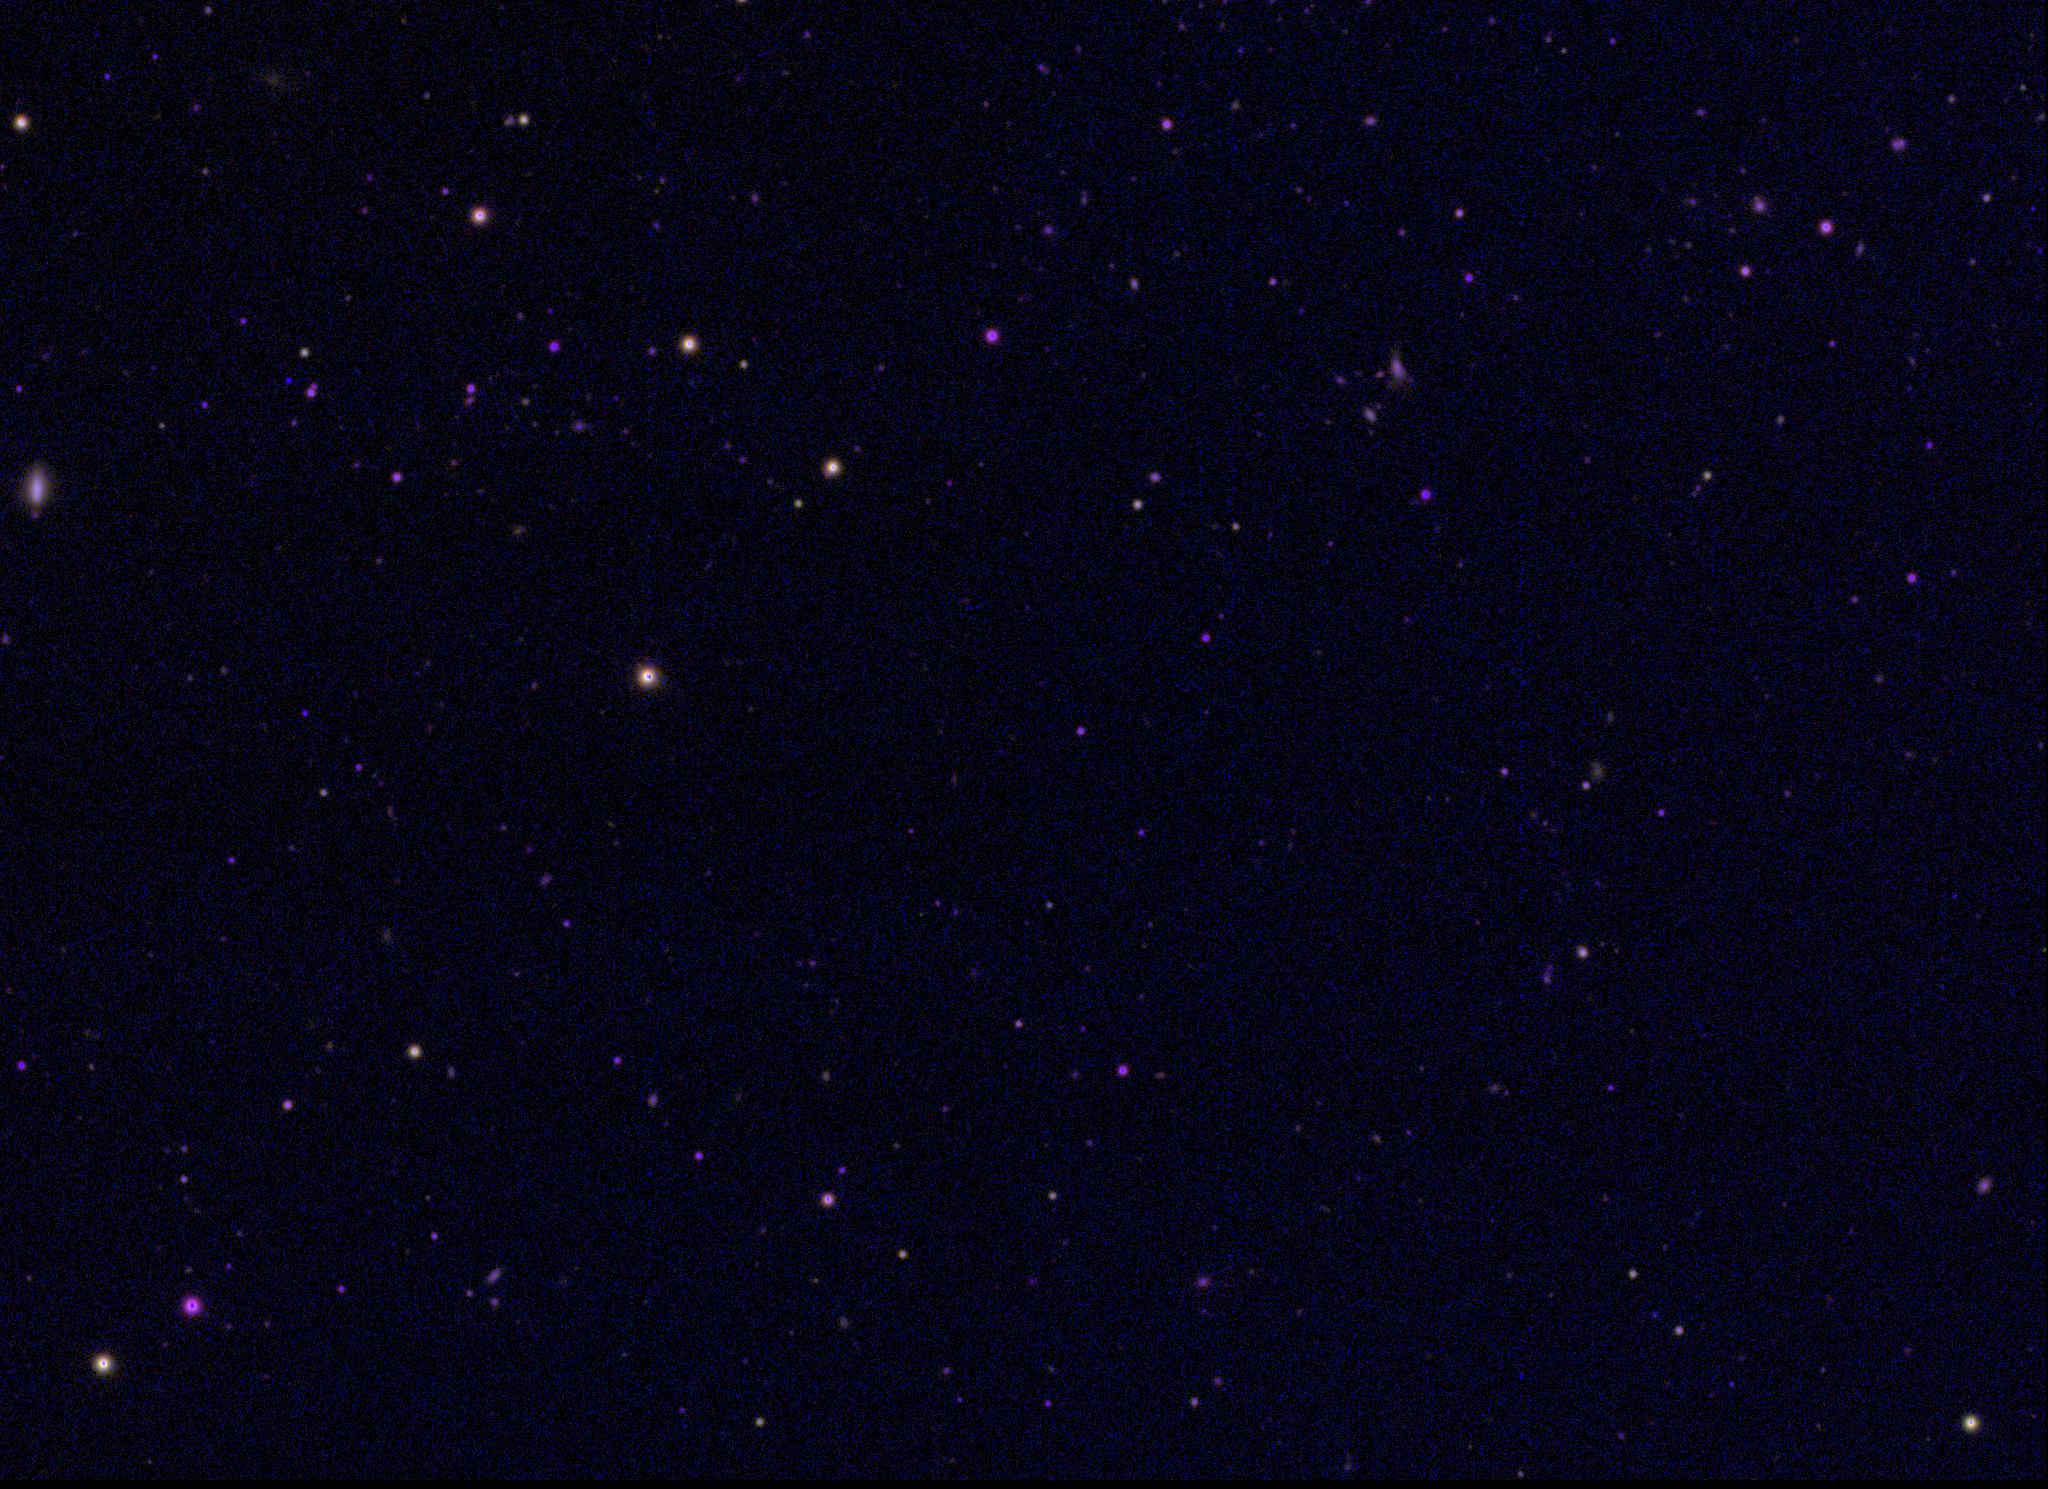L: (280, 375, 294, 390)
